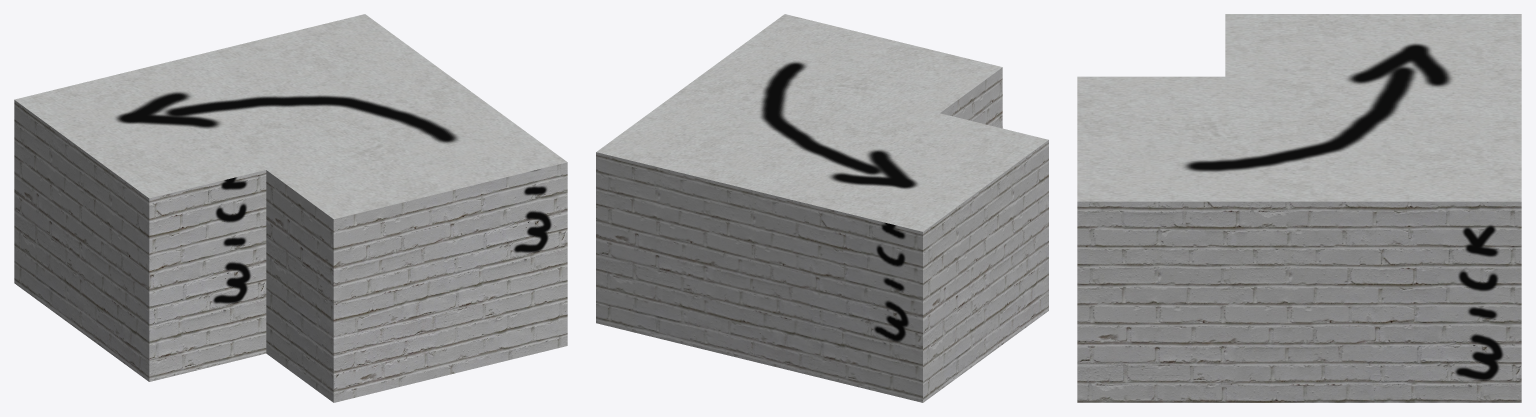
Rendered from room.obj.
3 views of the same model, side by side, from view 1: azimuth 30°, elevation 25°; view 2: azimuth 150°, elevation 25°; view 3: azimuth 270°, elevation 25° (orthographic). The views are drawn at different scales.
Parts seen in each view (by area): view 1: room_Cube; view 2: room_Cube; view 3: room_Cube.
Boxes of the visible parts, x1,y1,x2,y2 form: room_Cube: [14, 14, 567, 402]; room_Cube: [596, 14, 1048, 402]; room_Cube: [1077, 14, 1521, 402].
Bounding box in the file's own units: 10 × 5 × 10.
Materials: 1 (1 with a texture image).
